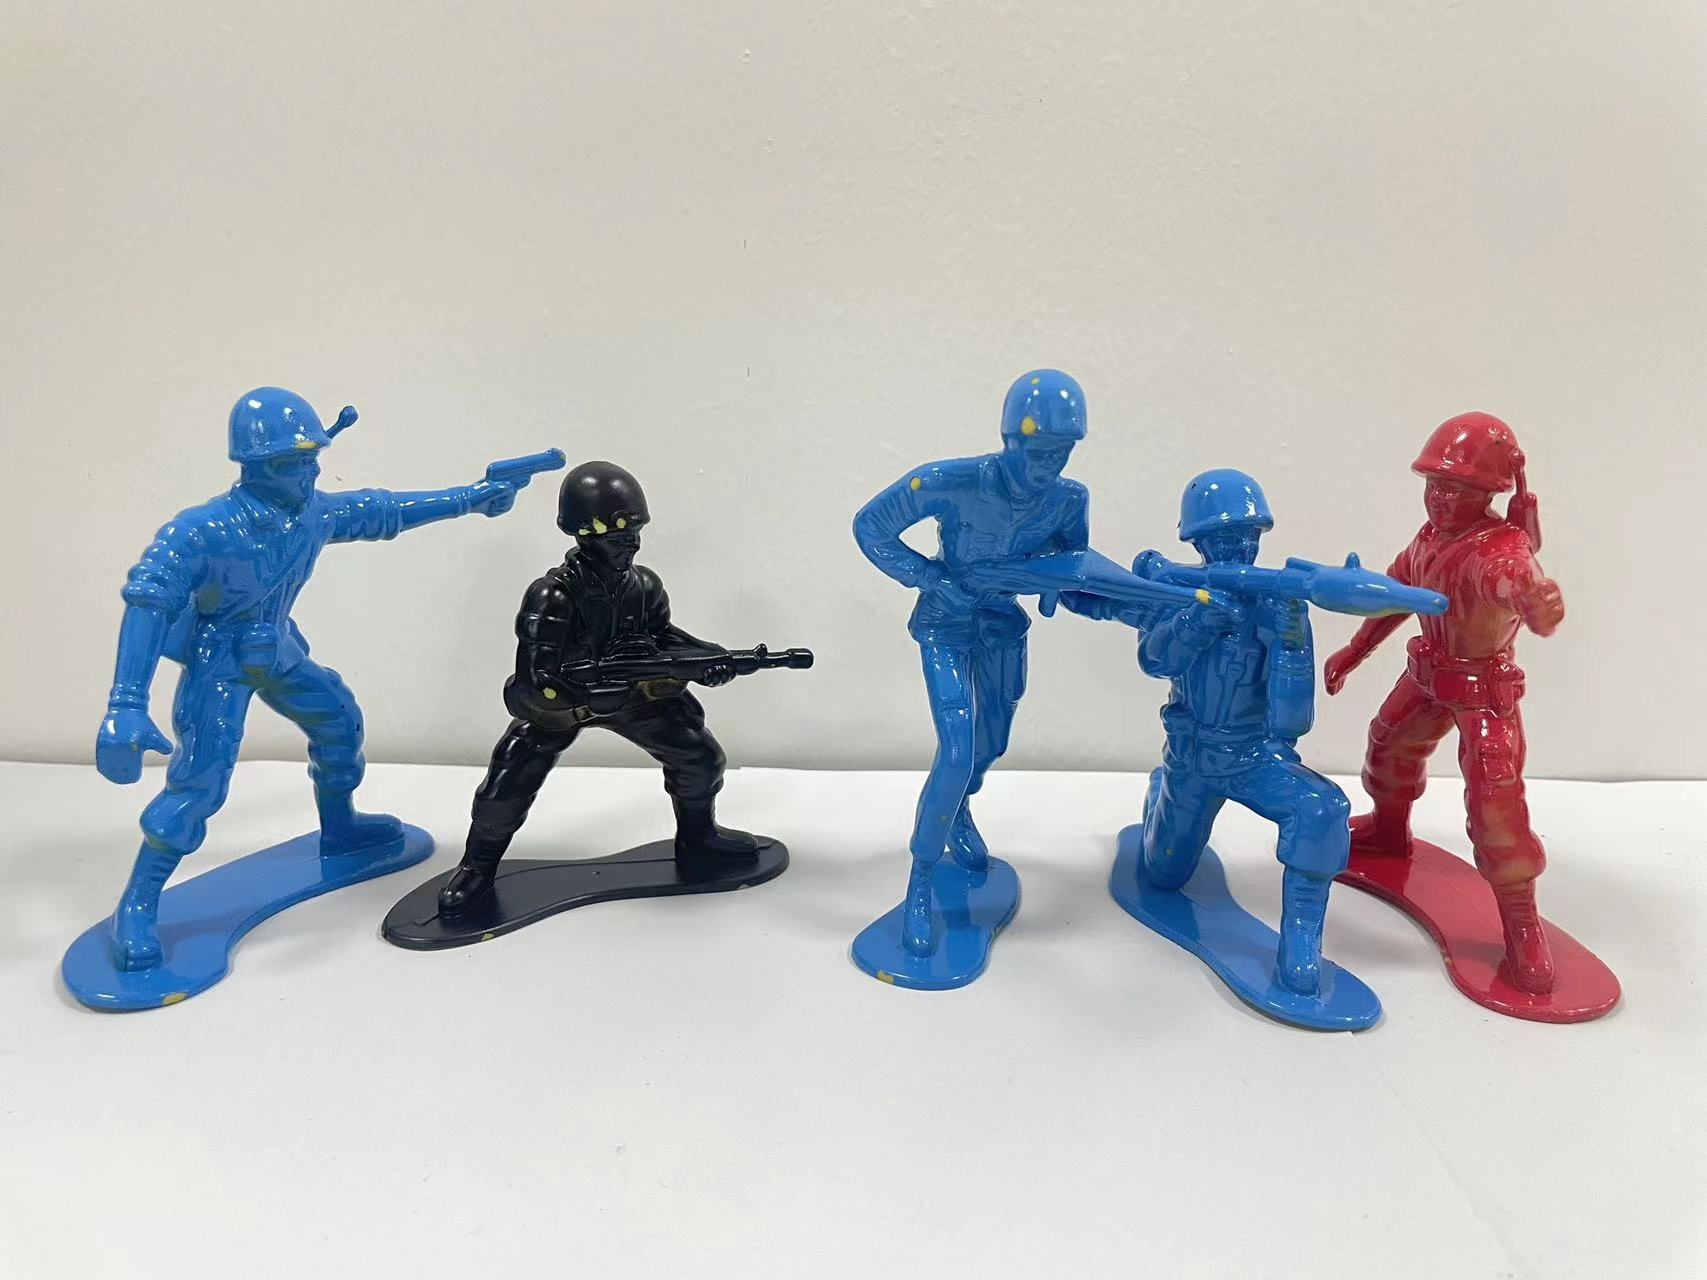black: (457, 418, 829, 955)
blue: (58, 333, 442, 1004), (844, 331, 1130, 1014), (1095, 457, 1388, 1053)
red: (1347, 360, 1685, 1104)
